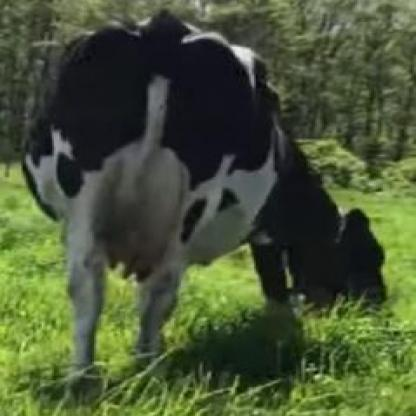cow: (20, 6, 389, 386)
